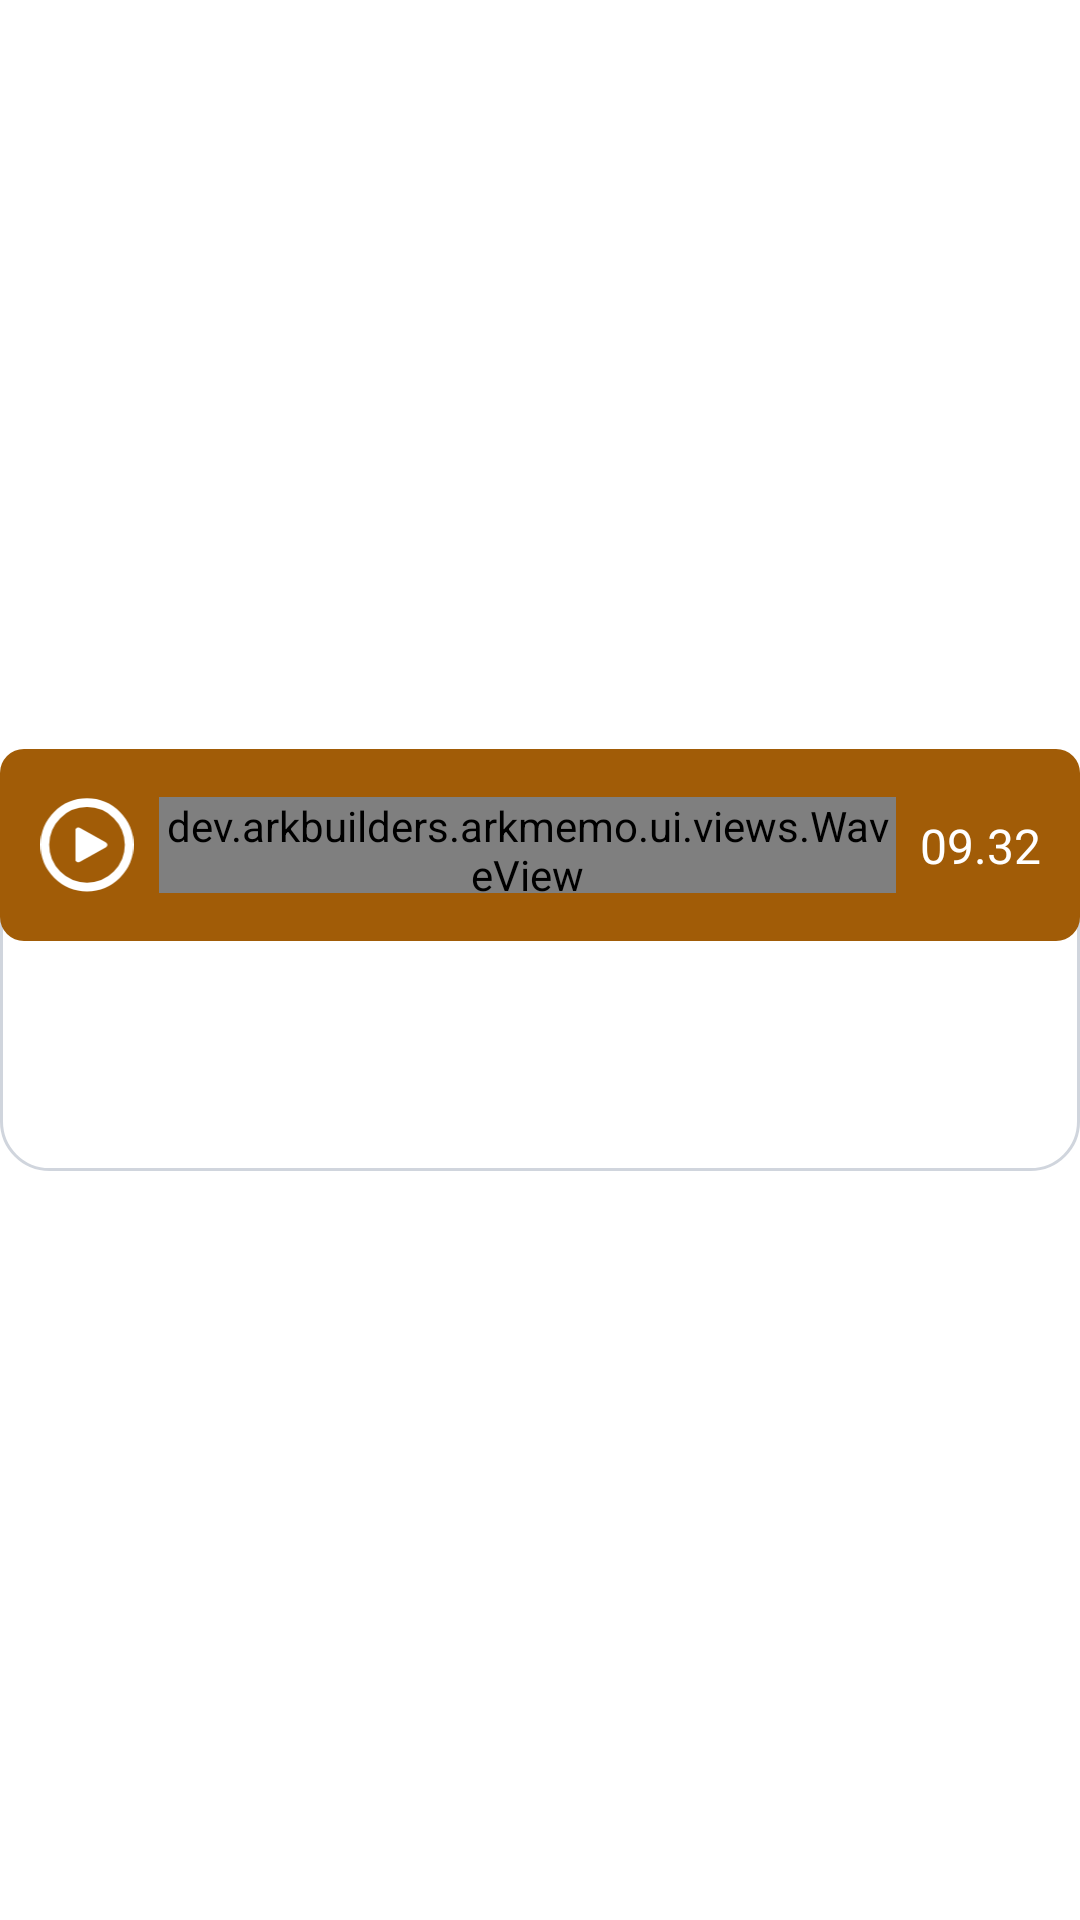

Icons on this 1080px×1920px Android screen, each with the point to tap as (x=x, y=y):
Play/Pause: (x=87, y=845)
